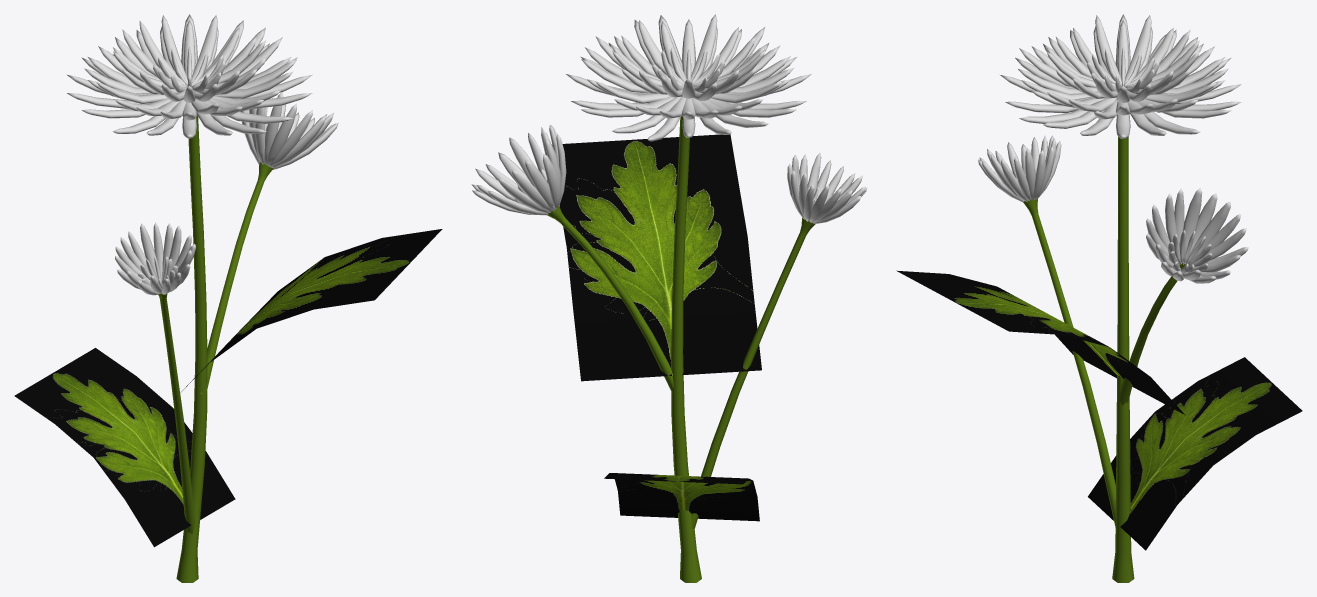
The model's file is chrysantheme.fbx.
The picture shows the model from 3 angles, left to right: view 1: azimuth 30°, elevation 25°; view 2: azimuth 150°, elevation 25°; view 3: azimuth 270°, elevation 25°; orthographic projection.
Visible parts, largest first — view 1: Chrysantheme; view 2: Chrysantheme; view 3: Chrysantheme.
Boxes of the visible parts, <box> form: Chrysantheme: <box>14,14,442,582</box>; Chrysantheme: <box>471,14,867,582</box>; Chrysantheme: <box>896,14,1302,582</box>.
Bounding box in the file's own units: 199 × 318 × 220.
